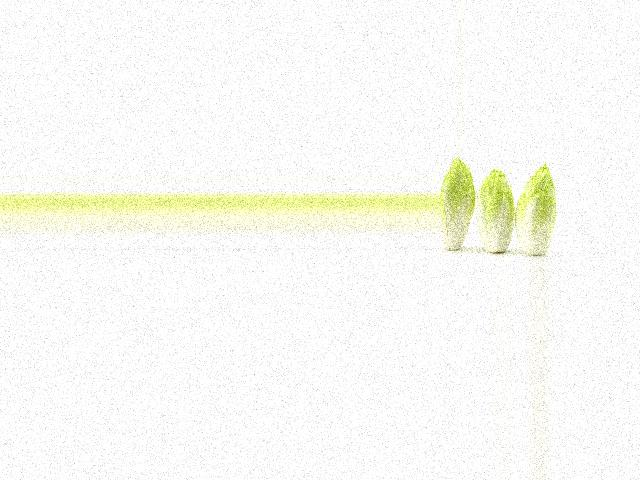lettuce: (516, 162, 556, 259)
